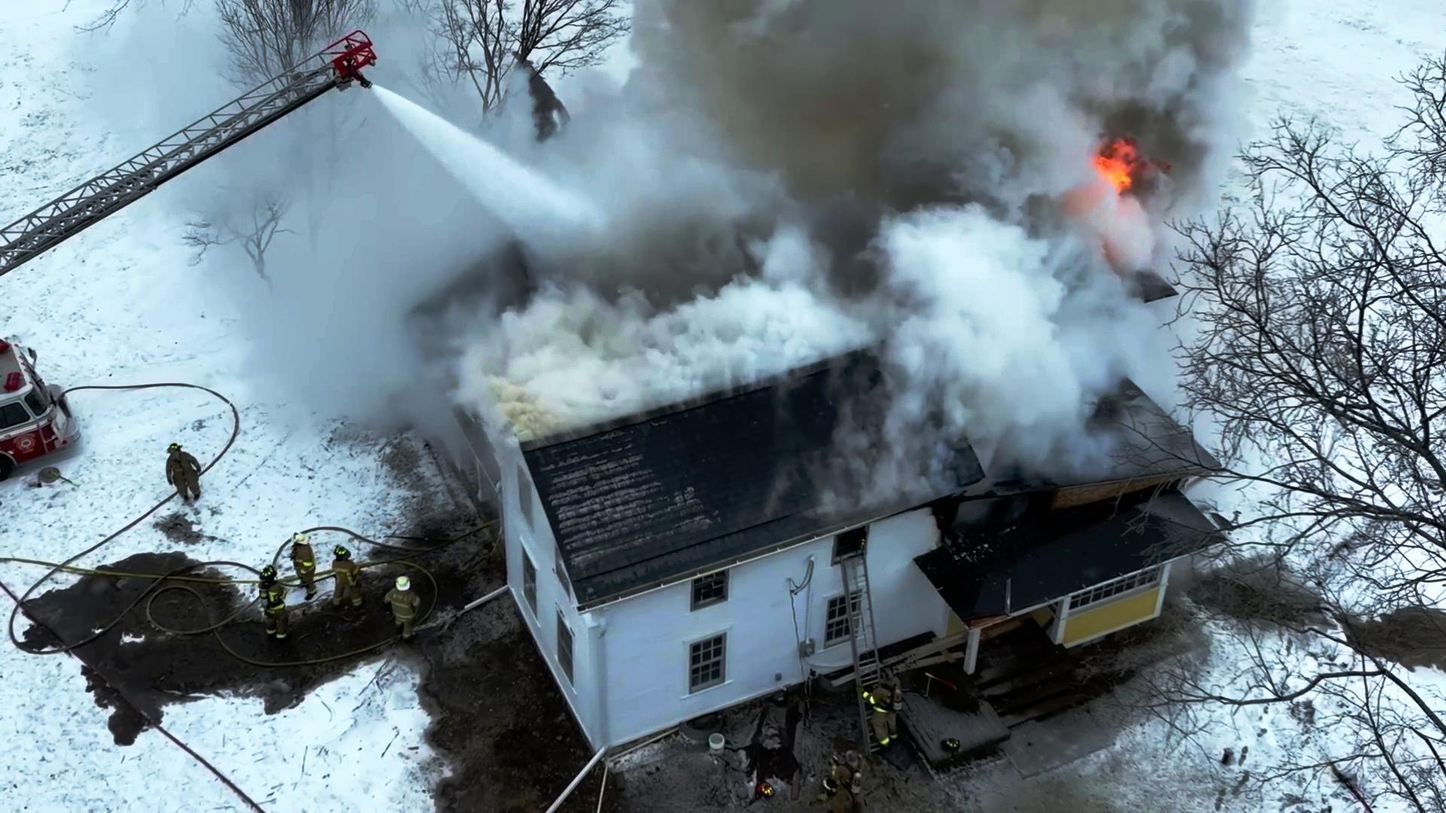smoke: (725, 30, 1031, 293)
